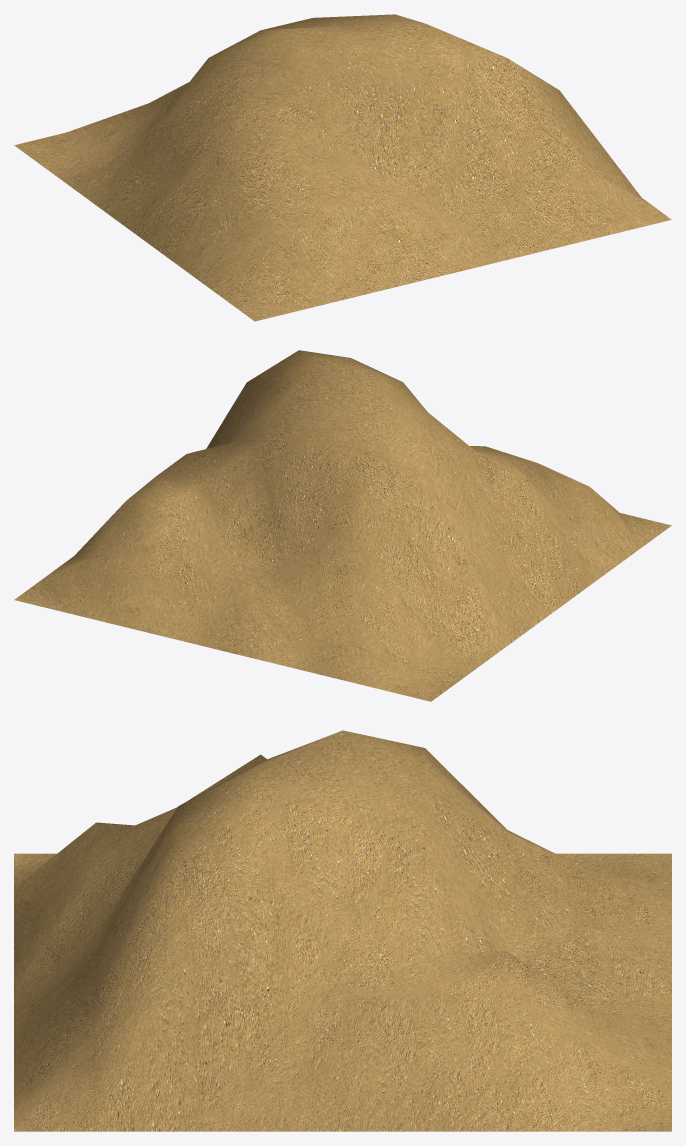
Rendered from very_low_poly_sand_pile.glb.
3 views of the same model, one above another, from view 1: azimuth 30°, elevation 25°; view 2: azimuth 150°, elevation 25°; view 3: azimuth 270°, elevation 25° (orthographic). The views are drawn at different scales.
Parts seen in each view (by area): view 1: Sand_Pile; view 2: Sand_Pile; view 3: Sand_Pile.
Part boxes in pixels (left/top/right/bottom): Sand_Pile: left=14, top=14, right=671, bottom=321; Sand_Pile: left=14, top=350, right=671, bottom=701; Sand_Pile: left=14, top=730, right=671, bottom=1131.
Bounding box in the file's own units: 1 × 0.3858 × 1.
Materials: 1 (1 with a texture image).
